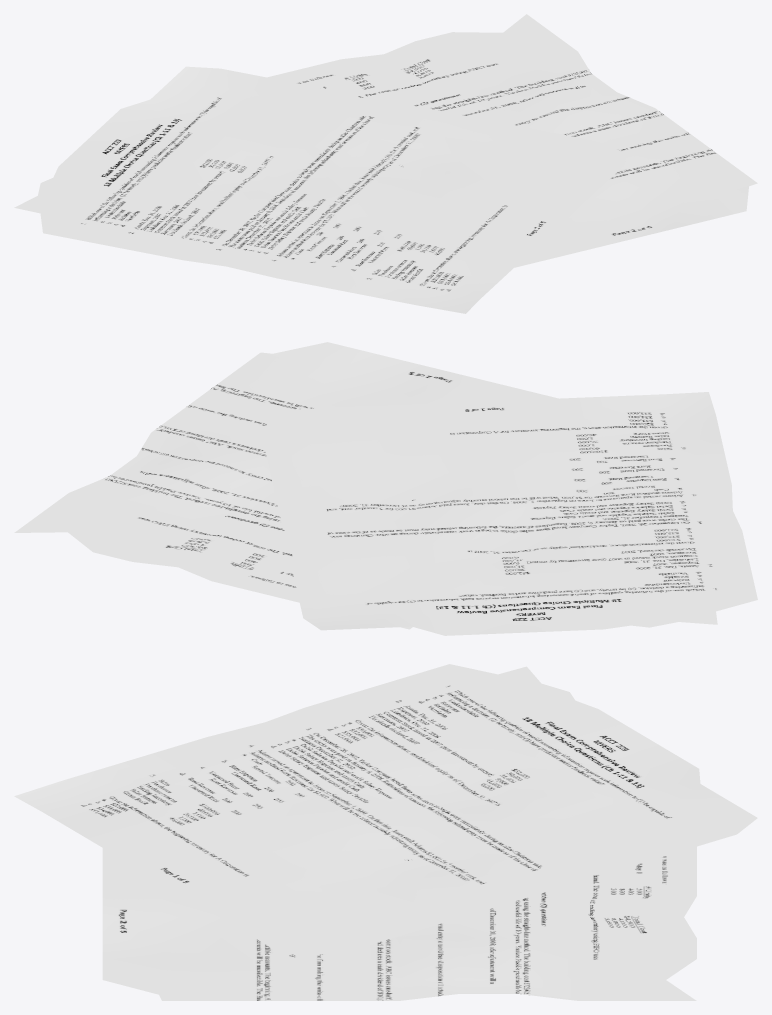
The model's file is papers.fbx.
3 views of the same model, one above another, from view 1: azimuth 30°, elevation 25°; view 2: azimuth 150°, elevation 25°; view 3: azimuth 270°, elevation 25° (orthographic). The views are drawn at different scales.
Visible parts, largest first — view 1: pasted__pasted__pPlane1, pasted__pPlane1; view 2: pasted__pasted__pPlane1, pasted__pPlane1; view 3: pasted__pasted__pPlane1, pasted__pPlane1.
Part boxes in pixels (x1,y1,x2,y2): pasted__pasted__pPlane1: (14,66,626,313); pasted__pPlane1: (263,14,757,267); pasted__pasted__pPlane1: (261,392,757,635); pasted__pPlane1: (14,342,558,629); pasted__pasted__pPlane1: (14,664,757,956); pasted__pPlane1: (102,793,696,1000).
Size of the model in its own units: 41.52 by 0.5529 by 39.17.
Materials: 2 (2 with a texture image).
